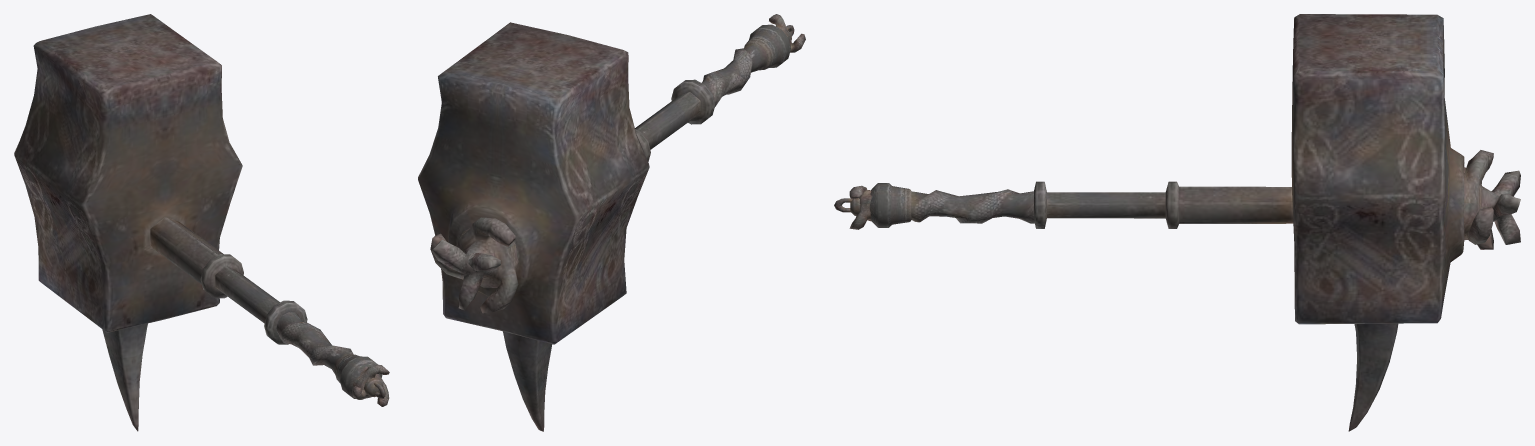
File: weapon-wp_a_0804.glb
The picture shows the model from 3 angles, left to right: view 1: azimuth 30°, elevation 25°; view 2: azimuth 150°, elevation 25°; view 3: azimuth 270°, elevation 25°; orthographic projection. The views are drawn at different scales.
Visible parts, largest first — view 1: wp_a_0804_mesh; view 2: wp_a_0804_mesh; view 3: wp_a_0804_mesh.
Boxes of the visible parts, x1,y1,x2,y2 form: wp_a_0804_mesh: (14, 14, 389, 431); wp_a_0804_mesh: (418, 14, 805, 431); wp_a_0804_mesh: (834, 14, 1520, 431).
Bounding box in the file's own units: 0.3274 × 0.7215 × 1.15.
Materials: 1 (1 with a texture image).
